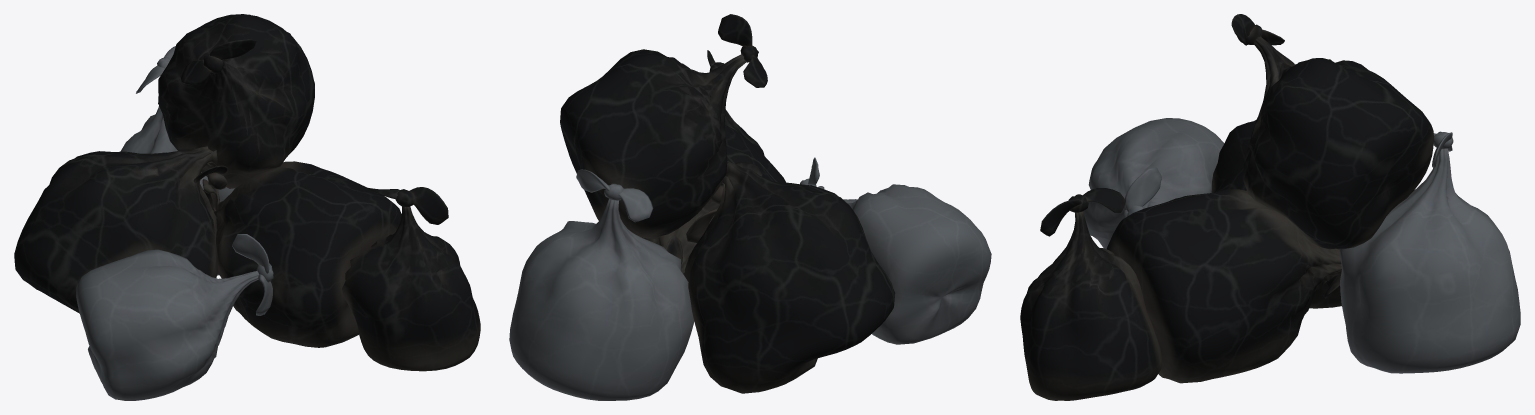
File: trash-bag-pile.glb
3 views of the same model, side by side, from view 1: azimuth 30°, elevation 25°; view 2: azimuth 150°, elevation 25°; view 3: azimuth 270°, elevation 25° (orthographic). The views are drawn at different scales.
Parts seen in each view (by area): view 1: trash-bag-pile_body; view 2: trash-bag-pile_body; view 3: trash-bag-pile_body.
Boxes of the visible parts, left/top/right/bottom form: trash-bag-pile_body: left=14, top=14, right=480, bottom=400; trash-bag-pile_body: left=509, top=14, right=991, bottom=400; trash-bag-pile_body: left=1020, top=14, right=1520, bottom=400.
Bounding box in the file's own units: 1.27 × 0.965 × 1.42.
Materials: 1 (1 with a texture image).
